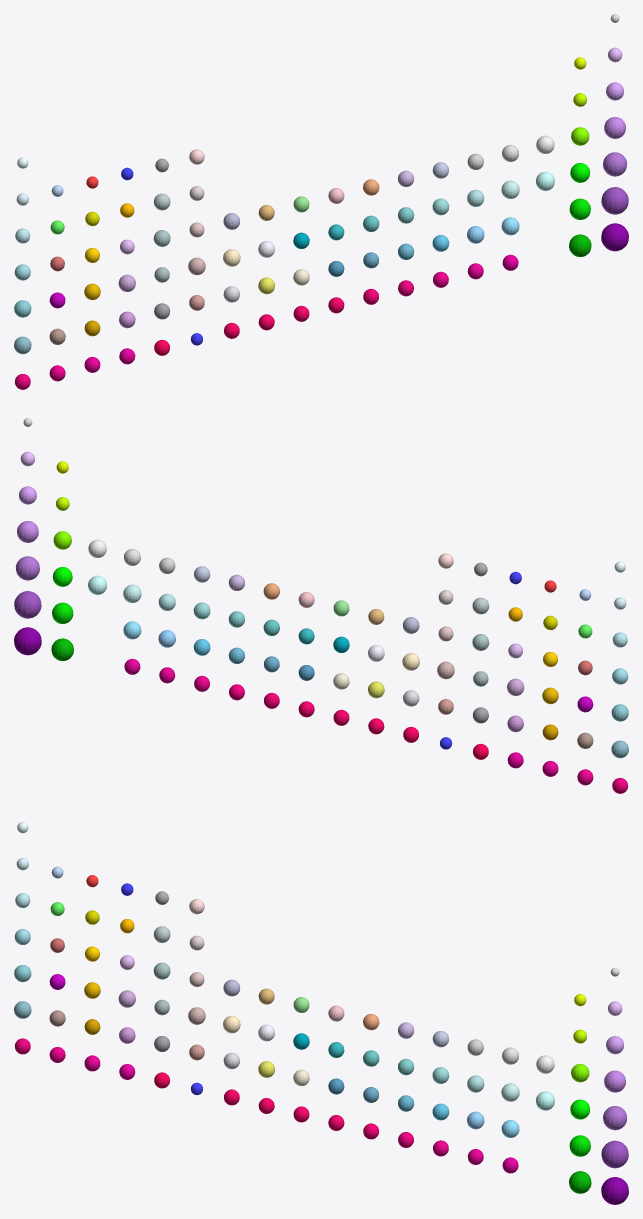
The model's file is PeriodicTableAnimation.gltf.
3 renders of one model, top to bottom at view 1: azimuth 30°, elevation 25°; view 2: azimuth 150°, elevation 25°; view 3: azimuth 330°, elevation 25°, orthographic.
Visible parts, largest first — view 1: Shape_Sphere.071, Shape_Sphere.054; view 2: Shape_Sphere.071, Shape_Sphere.054; view 3: Shape_Sphere.071, Shape_Sphere.054.
Boxes of the visible parts, bbox=[...] form: Shape_Sphere.071: bbox=[601, 223, 628, 251]; Shape_Sphere.054: bbox=[601, 187, 628, 214]; Shape_Sphere.071: bbox=[14, 627, 41, 655]; Shape_Sphere.054: bbox=[14, 591, 41, 618]; Shape_Sphere.071: bbox=[601, 1177, 628, 1204]; Shape_Sphere.054: bbox=[601, 1140, 628, 1168].
Size of the model in its own units: 87.84 by 32.44 by 3.48.
